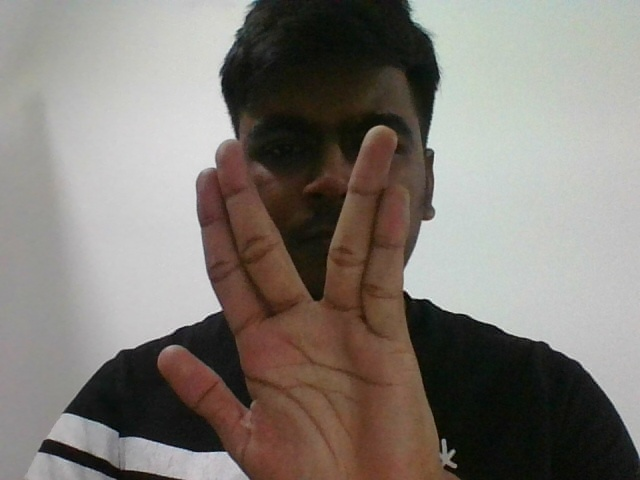livelong: (194, 134, 430, 470)
